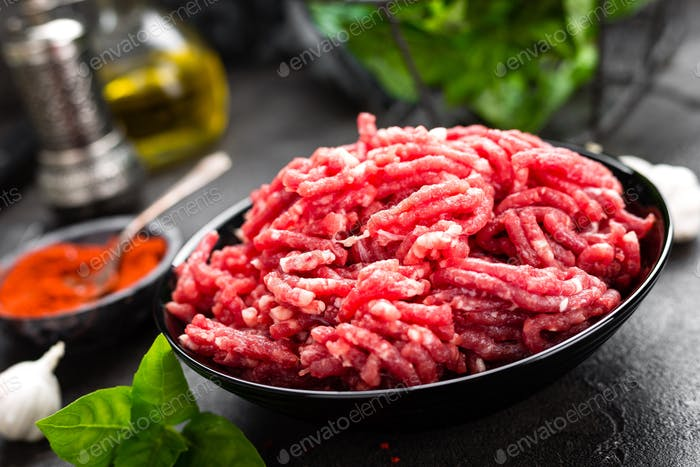ground_beef: (177, 135, 626, 359)
